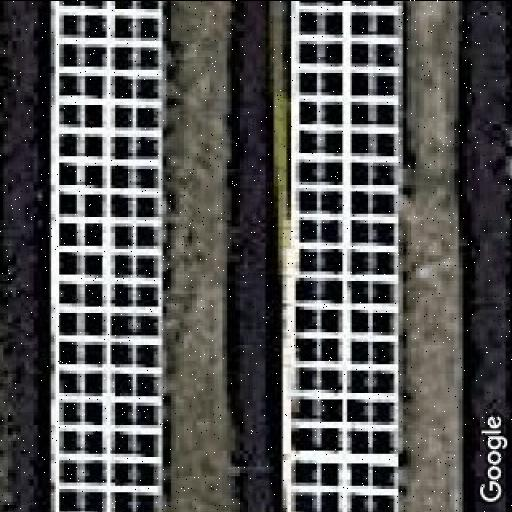solar-panel: (280, 0, 405, 512), (51, 0, 165, 512)
